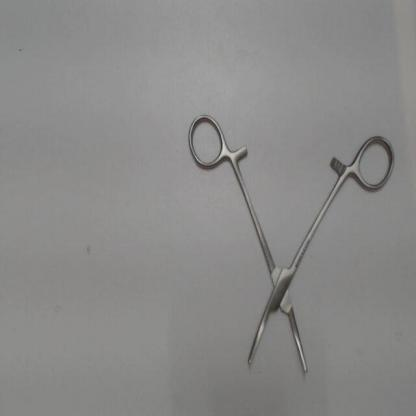Crile Artery Forceps: (185, 108, 402, 379)
